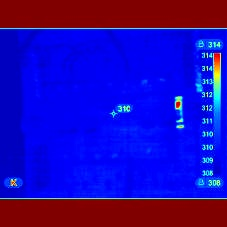Less: (176, 111, 184, 128)
